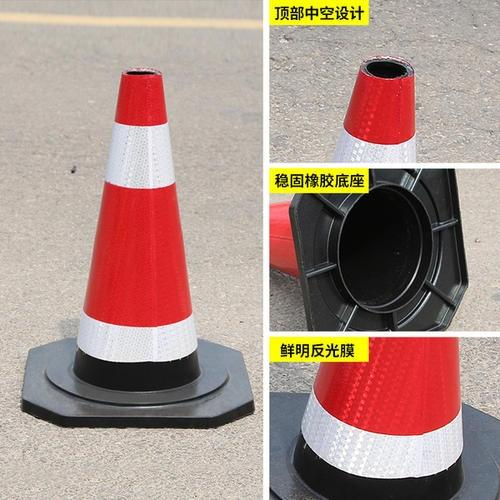cone_barrel: (53, 67, 218, 411), (296, 331, 464, 498), (331, 52, 419, 160)
